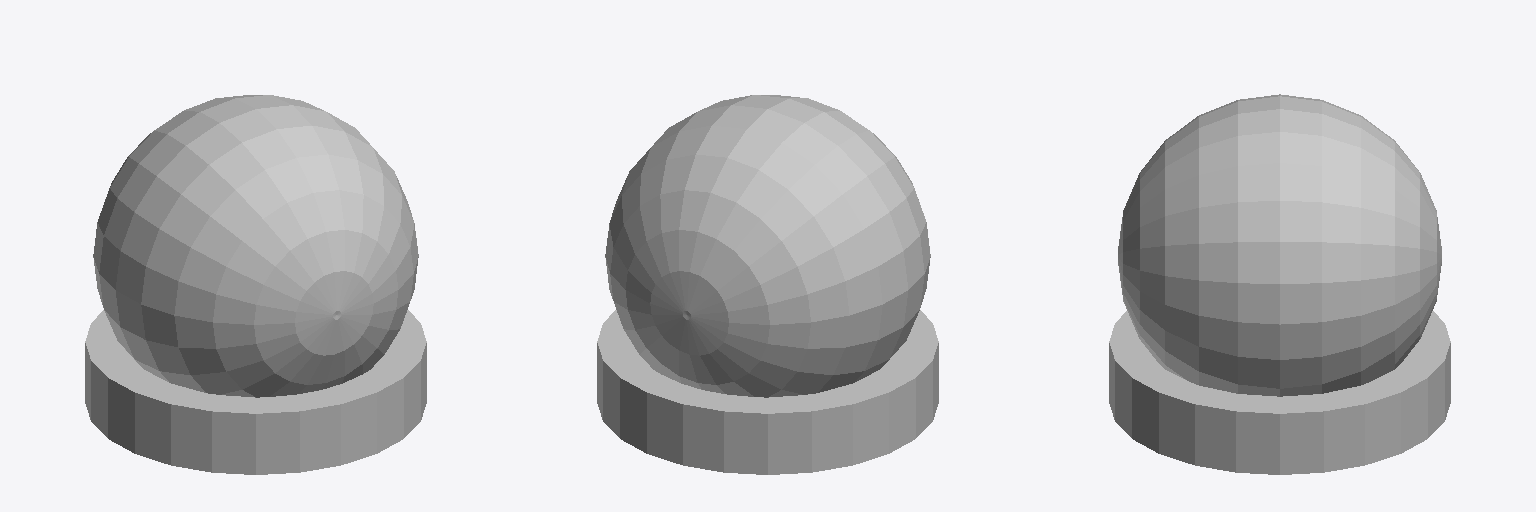
The model's file is gems_opal_4.obj.
3 renders of one model, left to right at view 1: azimuth 30°, elevation 25°; view 2: azimuth 150°, elevation 25°; view 3: azimuth 270°, elevation 25°, orthographic.
Parts seen in each view (by area): view 1: mergedBlocks; view 2: mergedBlocks; view 3: mergedBlocks.
Boxes of the visible parts, <box> form: mergedBlocks: <box>85,95,426,474</box>; mergedBlocks: <box>597,95,938,474</box>; mergedBlocks: <box>1109,94,1450,474</box>.
Size of the model in its own units: 1 by 0.95 by 1.